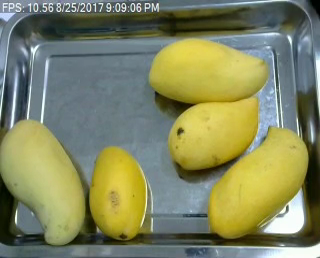Mango: (202, 124, 310, 241), (0, 118, 85, 247), (149, 38, 267, 106), (168, 95, 261, 171), (88, 144, 150, 239)
